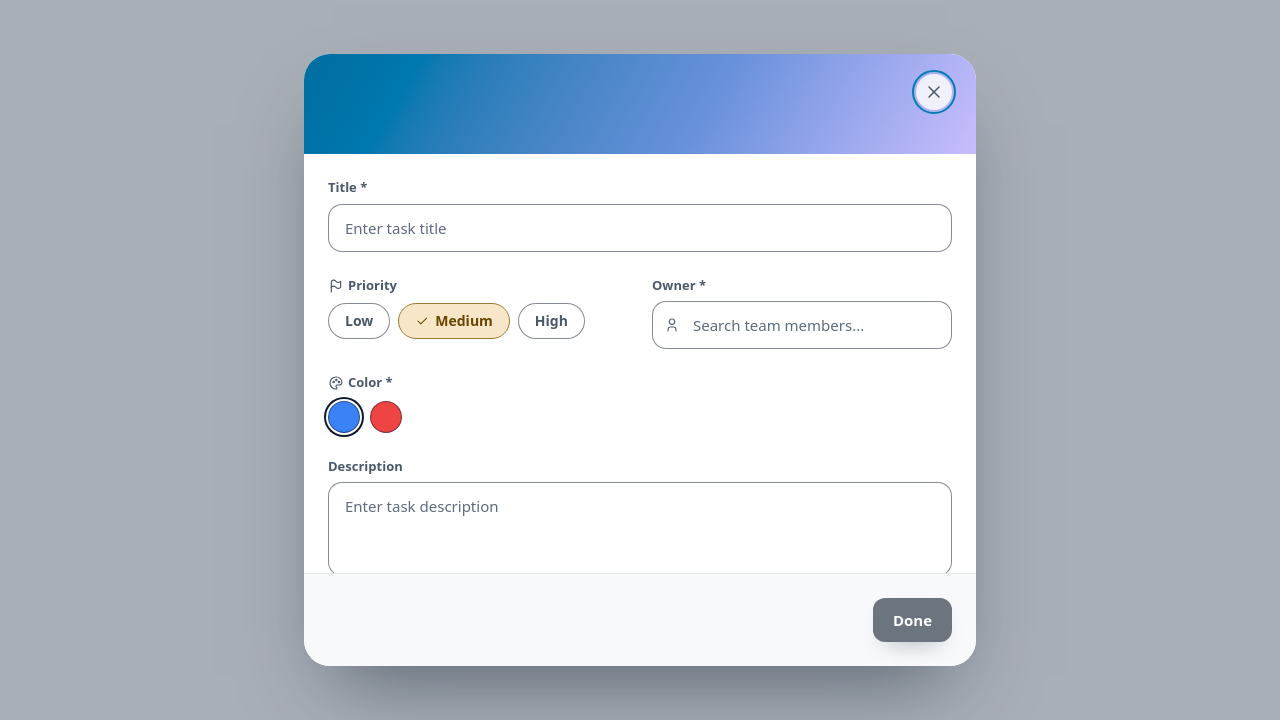
Test: TaskModal submit gating › enables Save once title, description, owner and color are all provided
Type "Ship the release notes" into the field with placeholder "Enter task title".
click(640, 228); type("Ship the release notes")  # box [328,204,952,252]
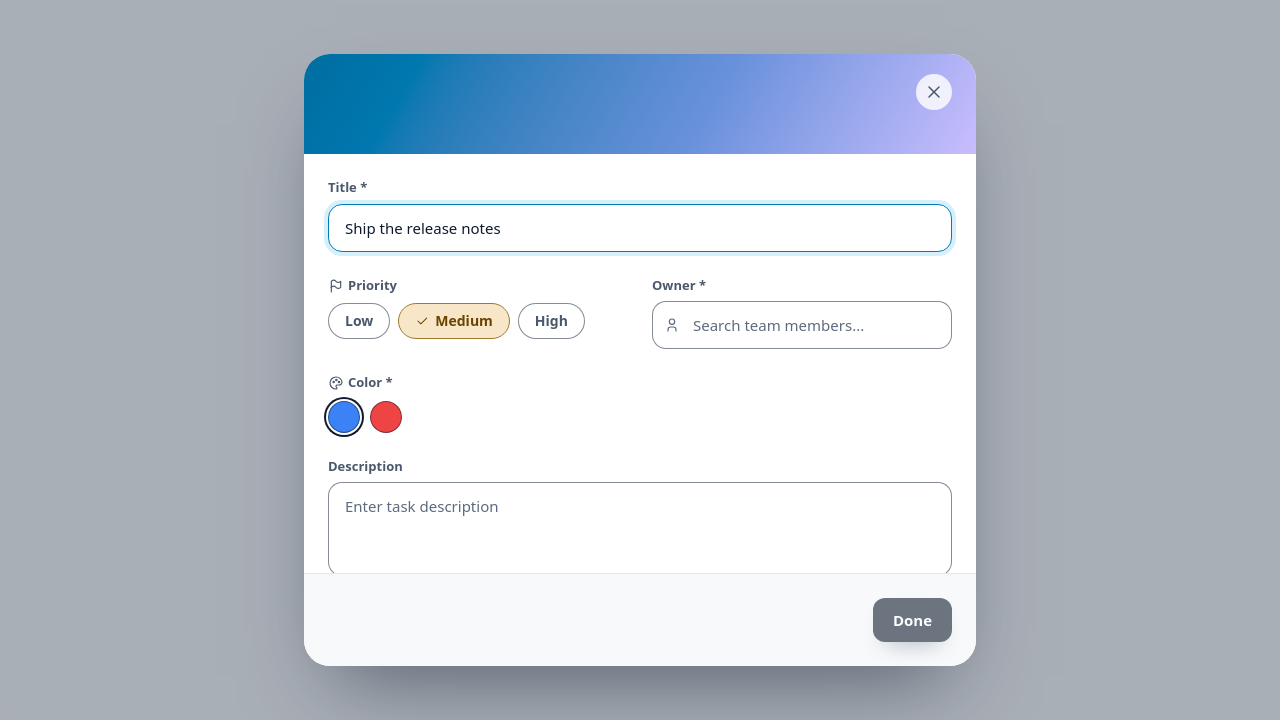
Type "Write and publish the notes for this cycle." into the text box with placeholder "Enter task description".
click(640, 529); type("Write and publish the notes for this cycle.")  # box [328,482,952,576]
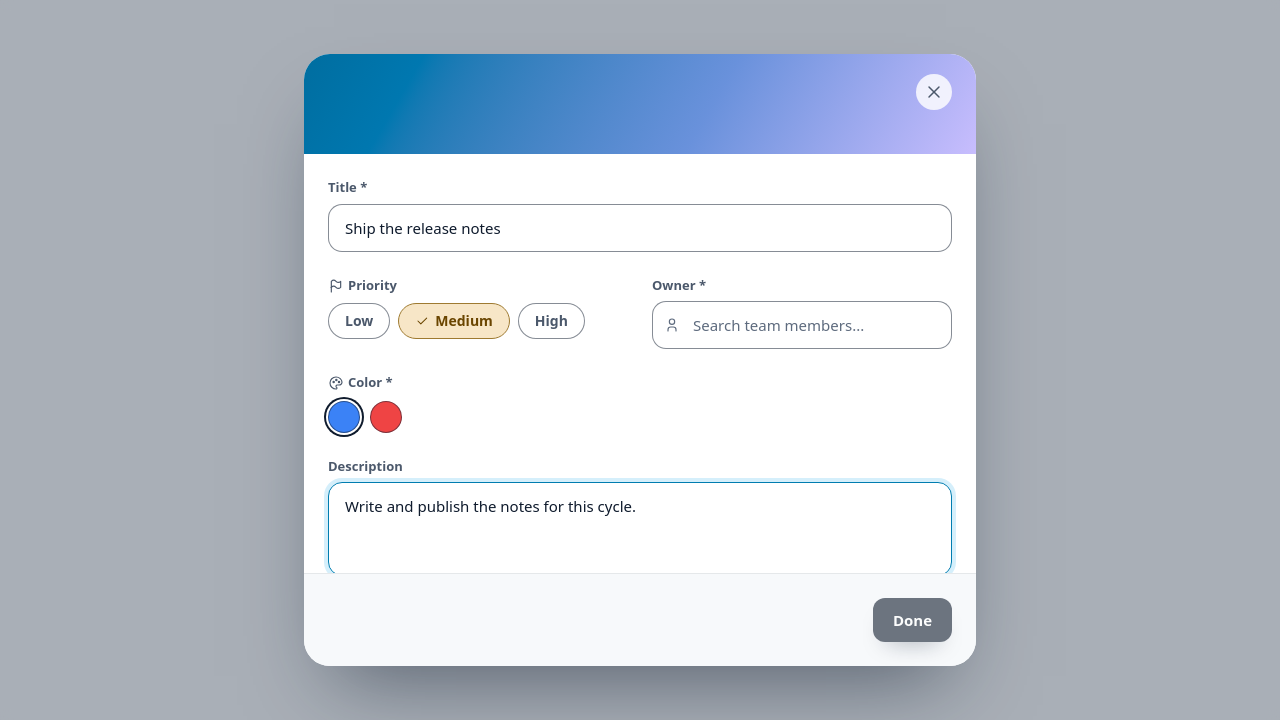
Click the radio button named "Blue".
click(344, 416)  # box [328,400,360,432]
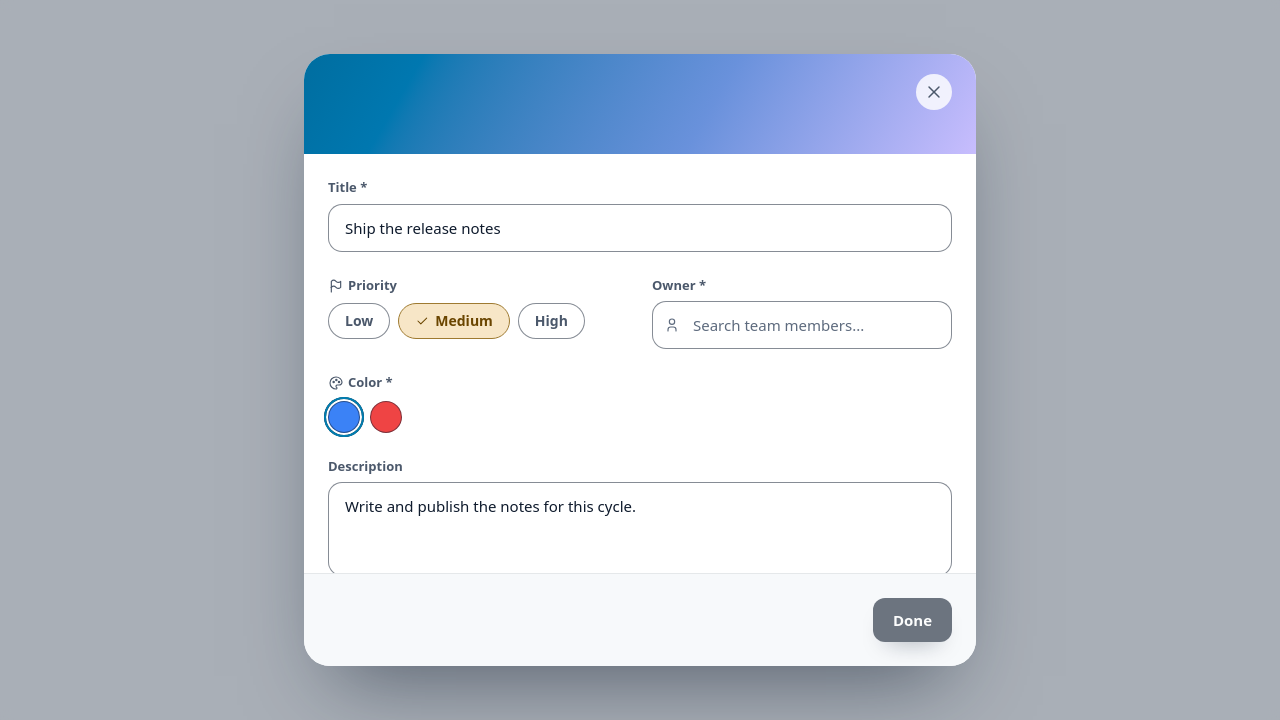
Expected: the button "Done" is disabled, [873,598,952,642]
Type "Ada" into the dropdown labelled "Owner *".
click(802, 325); type("Ada")  # box [652,301,952,349]
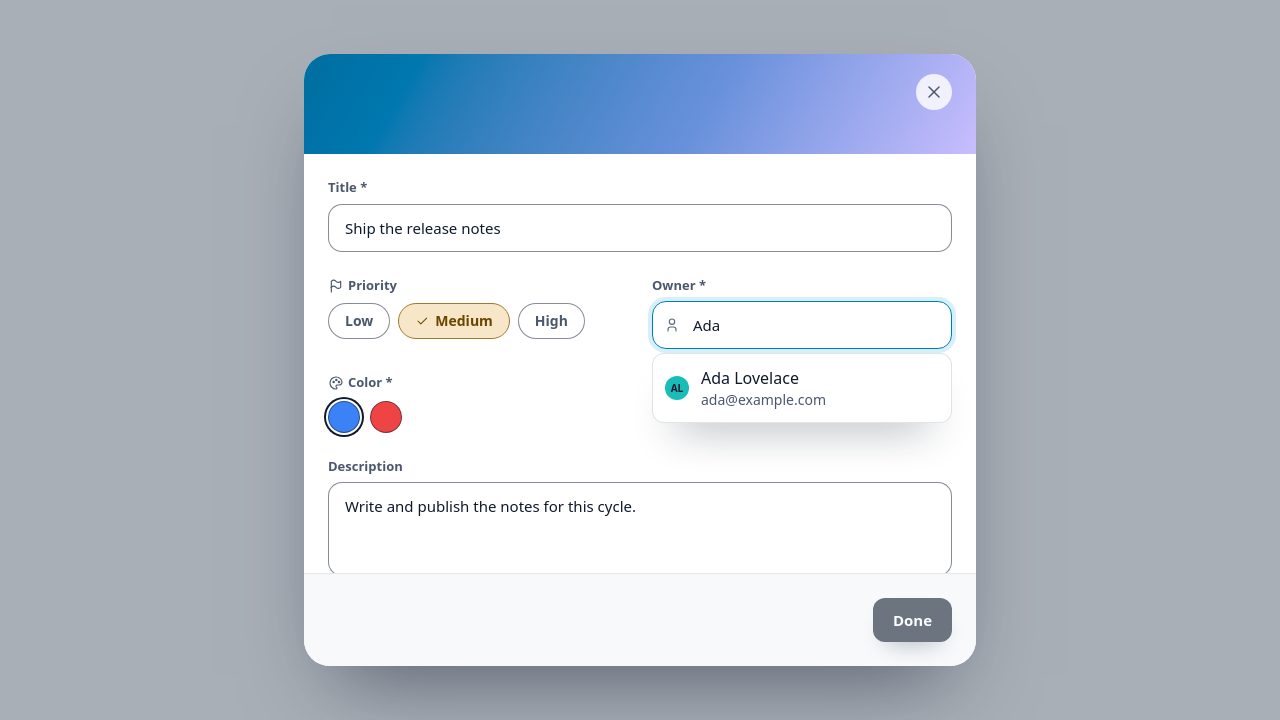
Click the text "Ada Lovelace".
click(750, 378)  # box [701,367,799,389]
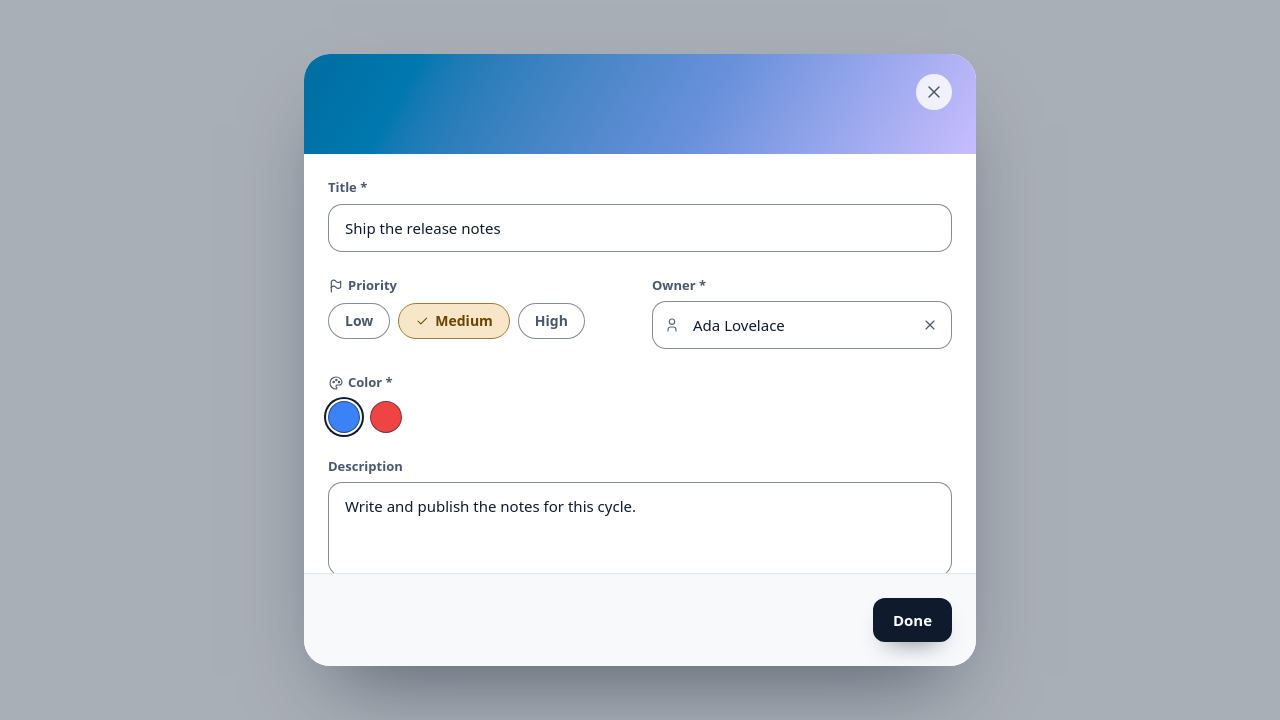
Now the button "Done" is enabled, box [873,598,952,642]
